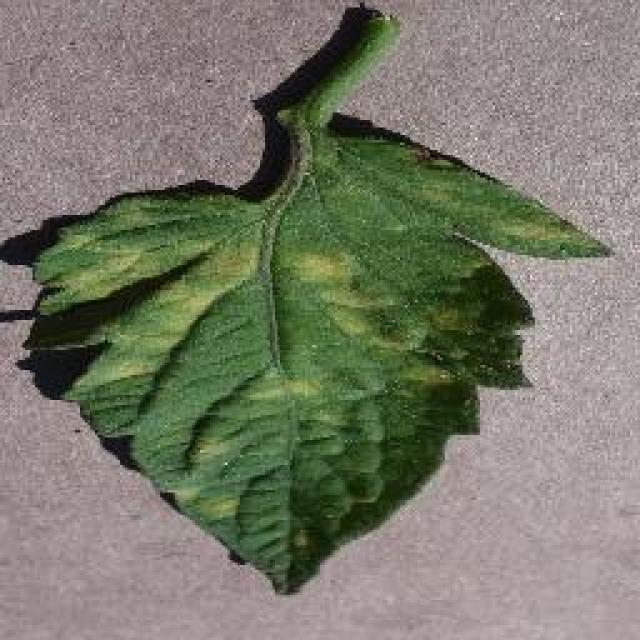Tomato___Leaf_Mold: (28, 15, 602, 590)
